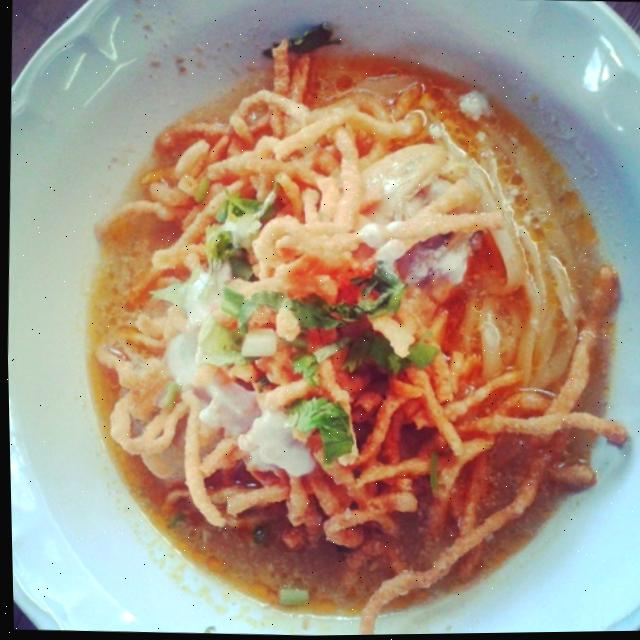面条主食: (24, 3, 640, 636)
